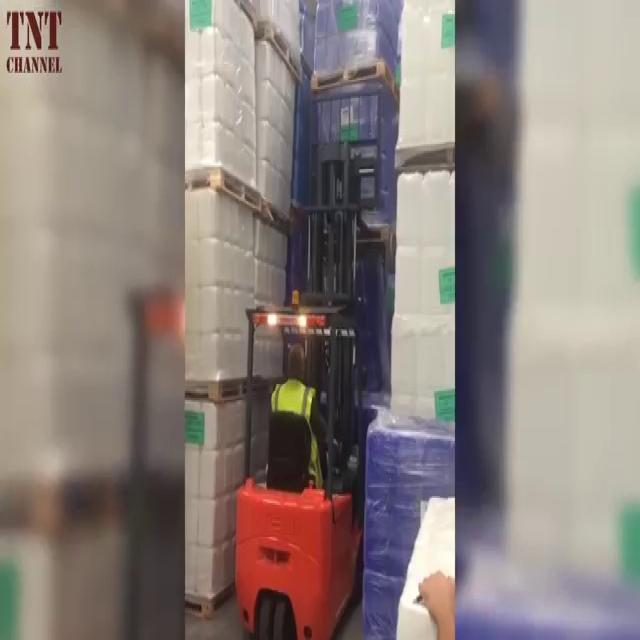forklift: (228, 276, 366, 639)
